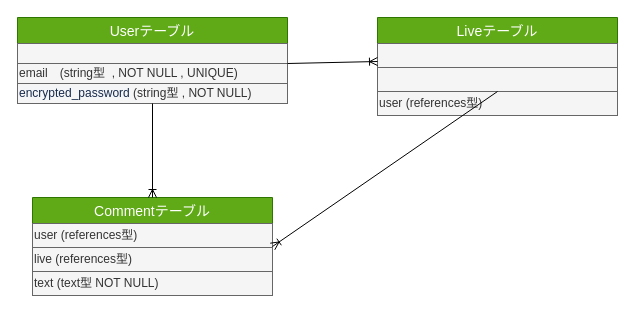
Some shapes in this 635 by 313 pixel diagram are drawn without their labels. The shapes that lost their labels are listed below. From the top down, each one's centre as x and y in pixels, then its label:
At point 152,53: "nickname (string型 , NOT NULL )".
At point 497,55: "name (string型 , NOT NULL)".
At point 497,79: "info (text型 , NOT NULL)".
